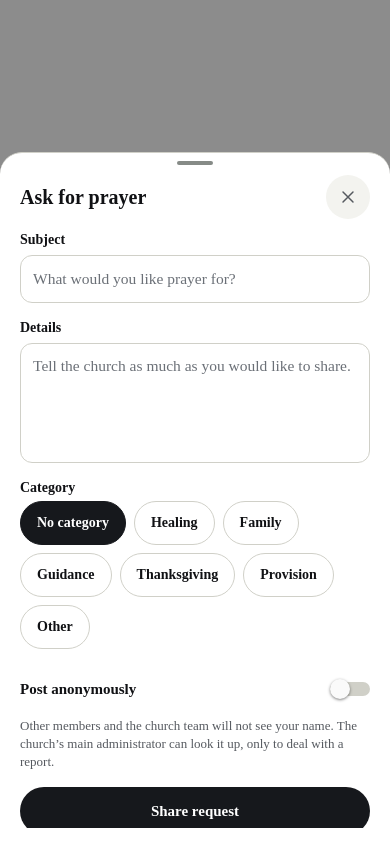
Test case: when sending fails › keeps every word, stays open, and says it could not be shared
Type "A subject" into the field with test id "prayer-form-title" at (195, 279), box [20,255,370,303]
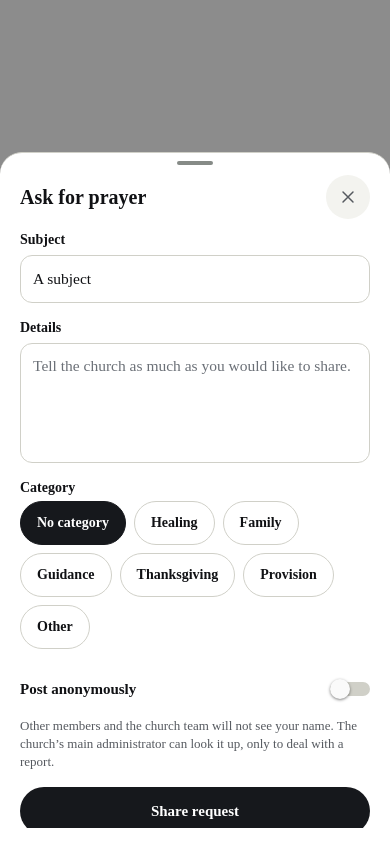
Type "A long prayer I wrote" into the text box with test id "prayer-form-body" at (195, 403), box [20,343,370,463]
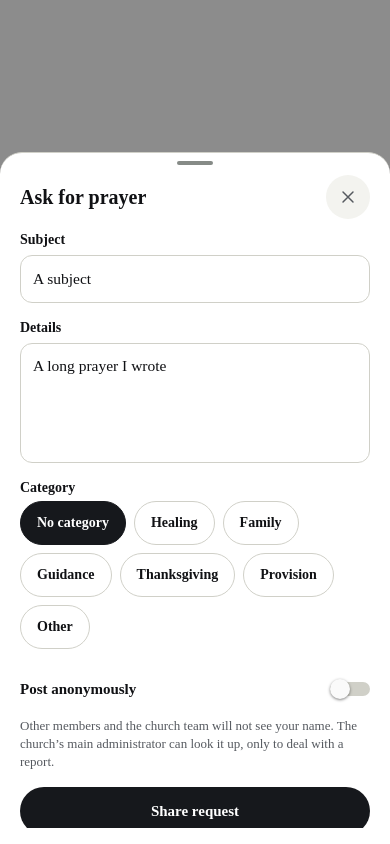
Click the radio button with test id "prayer-form-category-family" at (261, 523), box [223,501,299,545]
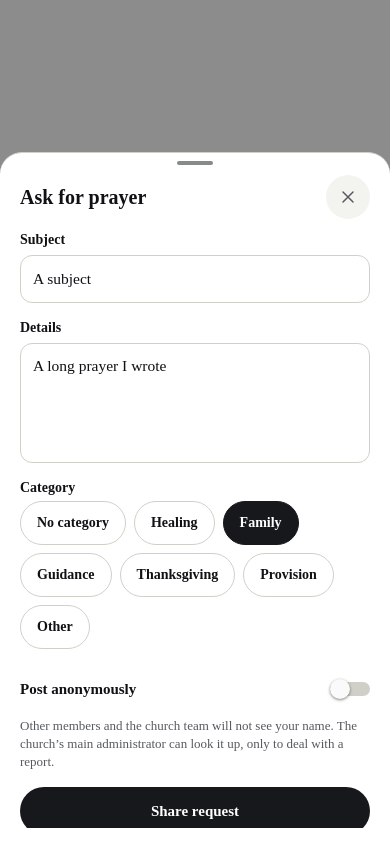
Click the switch with test id "prayer-form-anonymous" at (350, 689), box [330,679,370,699]
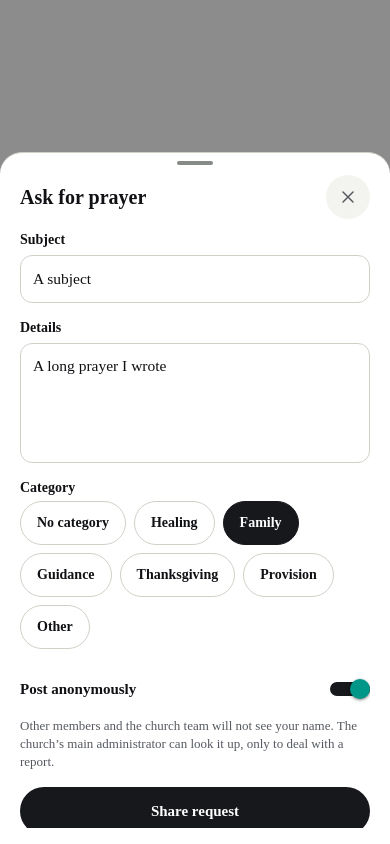
Click the button with test id "prayer-form-submit" at (195, 811), box [20,787,370,835]
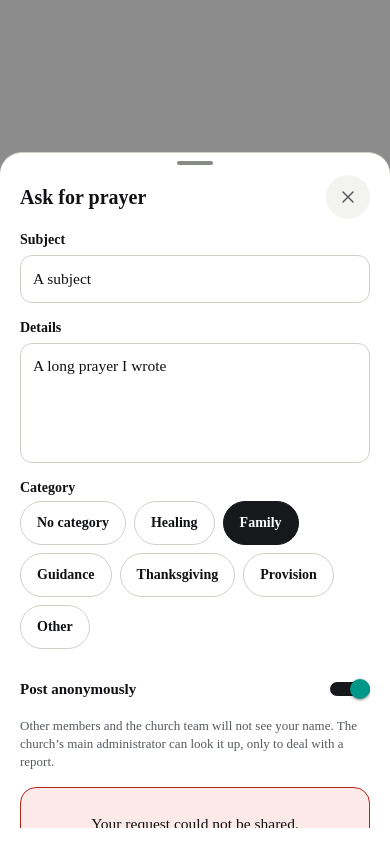
Expected: the radio button with test id "prayer-form-category-family" is selected, [223,501,299,545]
Expected: the text "Your request could not be shared." is shown, [91,812,299,828]
